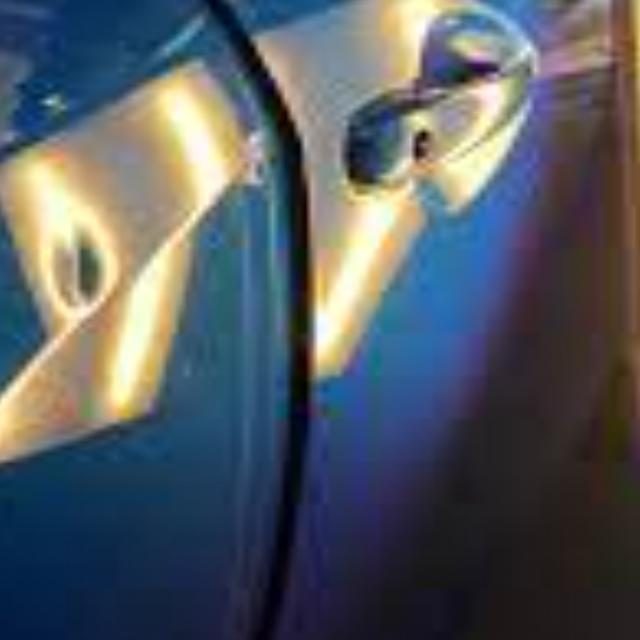dents: (24, 235, 182, 329)
